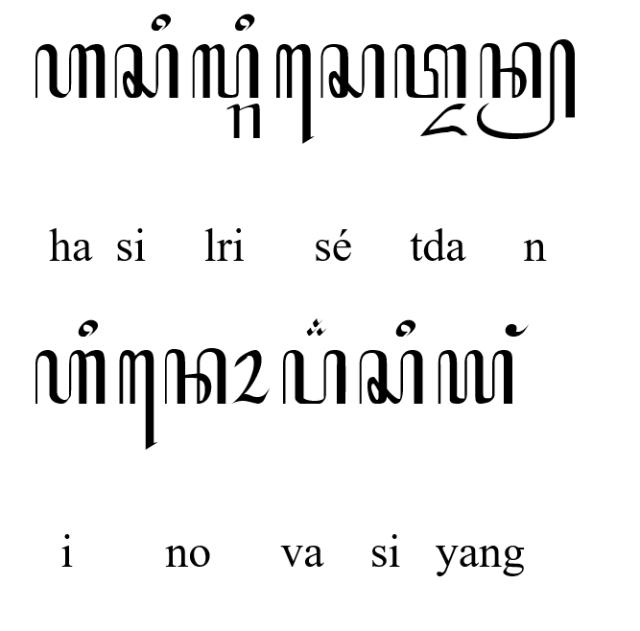-n: (476, 40, 576, 140)
_d: (418, 103, 468, 138)
alt: (305, 318, 327, 337)
e1: (118, 350, 158, 450), (276, 42, 314, 144)
h: (34, 348, 106, 406), (34, 43, 106, 99)
i: (77, 318, 99, 339), (233, 13, 255, 33), (150, 13, 172, 32), (396, 320, 416, 338)
l: (191, 43, 261, 99)
n: (165, 348, 228, 405)
ng: (504, 322, 530, 338)
o: (233, 349, 271, 404)
p: (282, 349, 346, 407)
r: (227, 102, 261, 140)
s: (358, 348, 424, 406), (114, 42, 180, 99), (319, 44, 385, 100)
t: (393, 42, 467, 99)
y: (436, 350, 514, 404)
